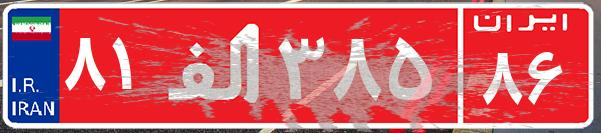1: (110, 28, 158, 105)
3: (273, 28, 330, 110)
5: (385, 28, 445, 110)
6: (525, 38, 570, 115)
8: (330, 28, 385, 110), (57, 26, 110, 107), (475, 38, 525, 113)
الف: (158, 15, 273, 115)
